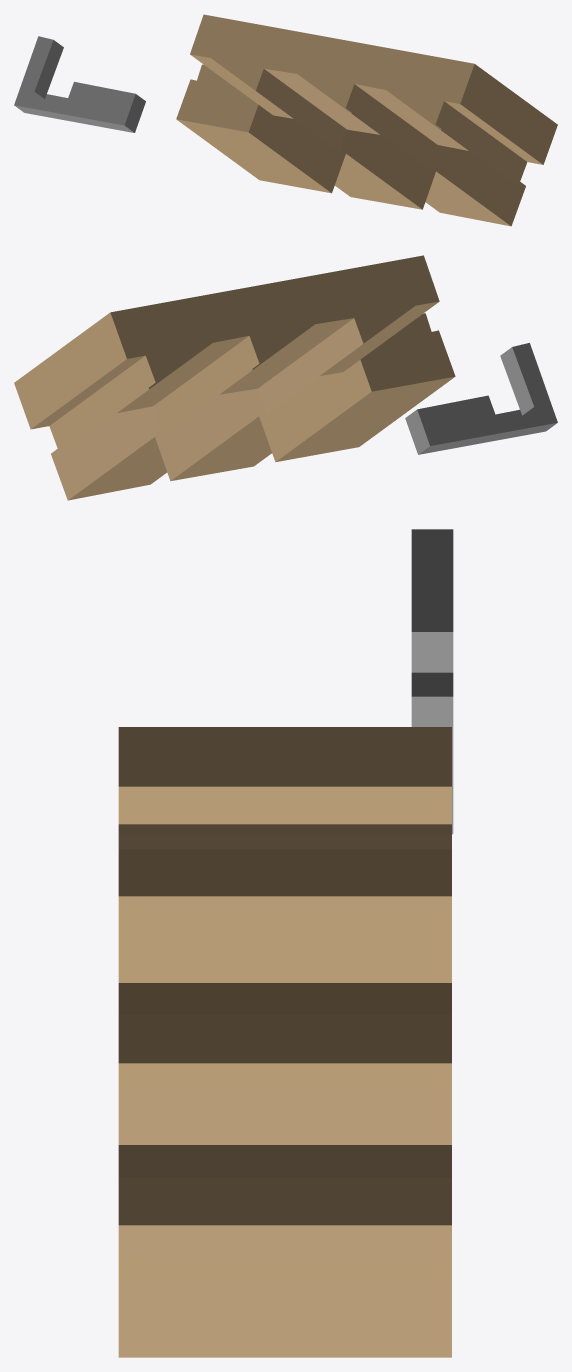
3 renders of one model, top to bottom at view 1: azimuth 30°, elevation 25°; view 2: azimuth 150°, elevation 25°; view 3: azimuth 270°, elevation 25°, orthographic. The views are drawn at different scales.
Parts seen in each view (by area): view 1: 0_0_3_1_3_1_2; view 2: 0_0_3_1_3_1_2; view 3: 0_0_3_1_3_1_2.
Boxes of the visible parts, bbox=[...] form: 0_0_3_1_3_1_2: bbox=[14, 14, 557, 226]; 0_0_3_1_3_1_2: bbox=[14, 255, 557, 500]; 0_0_3_1_3_1_2: bbox=[118, 529, 453, 1357].
Size of the model in its own units: 76.56 by 35.62 by 24.1.
